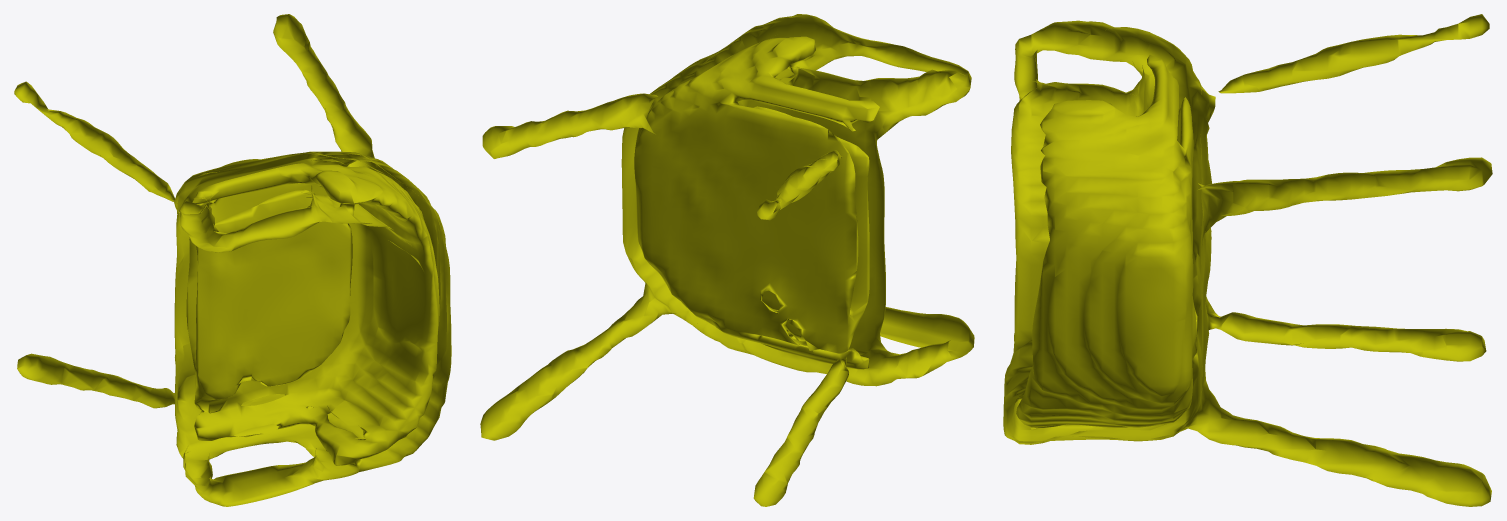
3 views of the same model, side by side, from view 1: azimuth 30°, elevation 25°; view 2: azimuth 150°, elevation 25°; view 3: azimuth 270°, elevation 25° (orthographic). The views are drawn at different scales.
Parts seen in each view (by area): view 1: world; view 2: world; view 3: world.
Part boxes in pixels (x1,y1,x2,y2): world: [14, 14, 451, 506]; world: [480, 14, 974, 506]; world: [1003, 14, 1492, 506].
Bounding box in the file's own units: 32.2 × 32.47 × 41.23.
